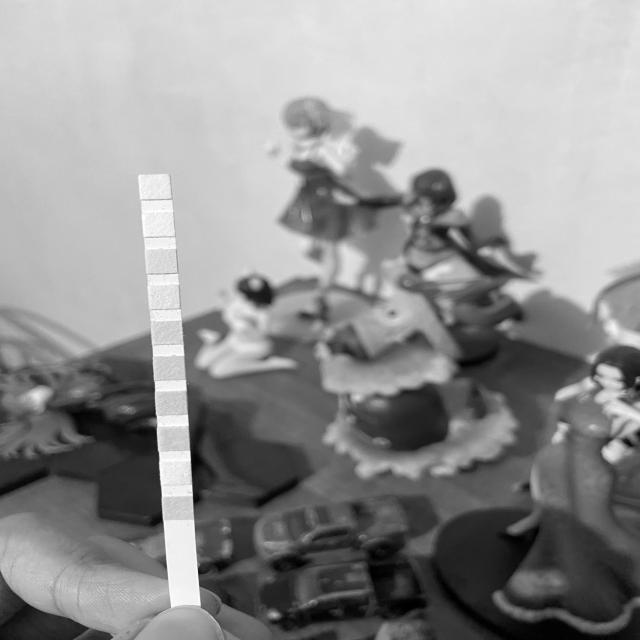Bilirubin: (162, 462, 192, 485)
Blood: (155, 357, 185, 380)
Glucose: (163, 497, 193, 519)
Ketone: (159, 426, 190, 451)
Leukocytes: (140, 175, 171, 199)
Nitrite: (146, 212, 173, 236)
Protein: (151, 286, 179, 308)
SpGravity: (156, 392, 188, 414)
Urobilinogen: (148, 250, 176, 273)
background: (0, 0, 640, 640)
pH: (153, 321, 182, 345)
strip: (139, 174, 201, 602)
